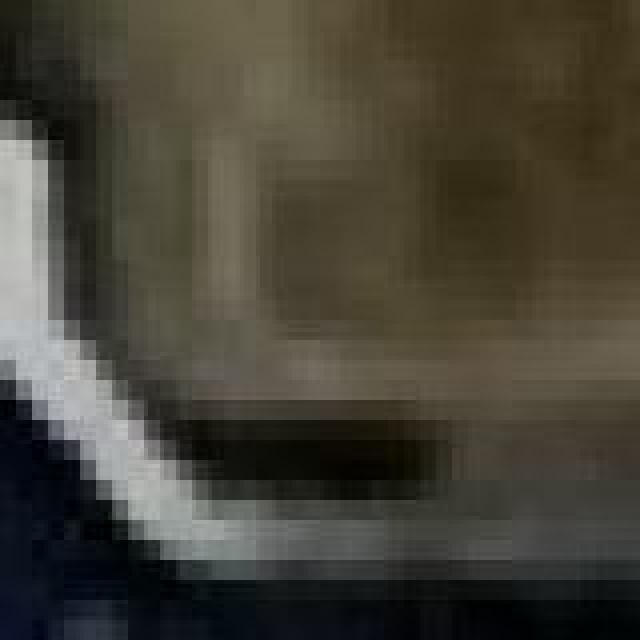switch: (4, 0, 640, 640)
